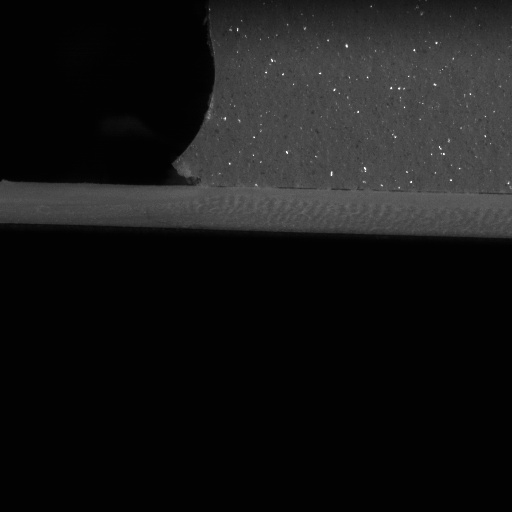changdai: (0, 179, 196, 232)
